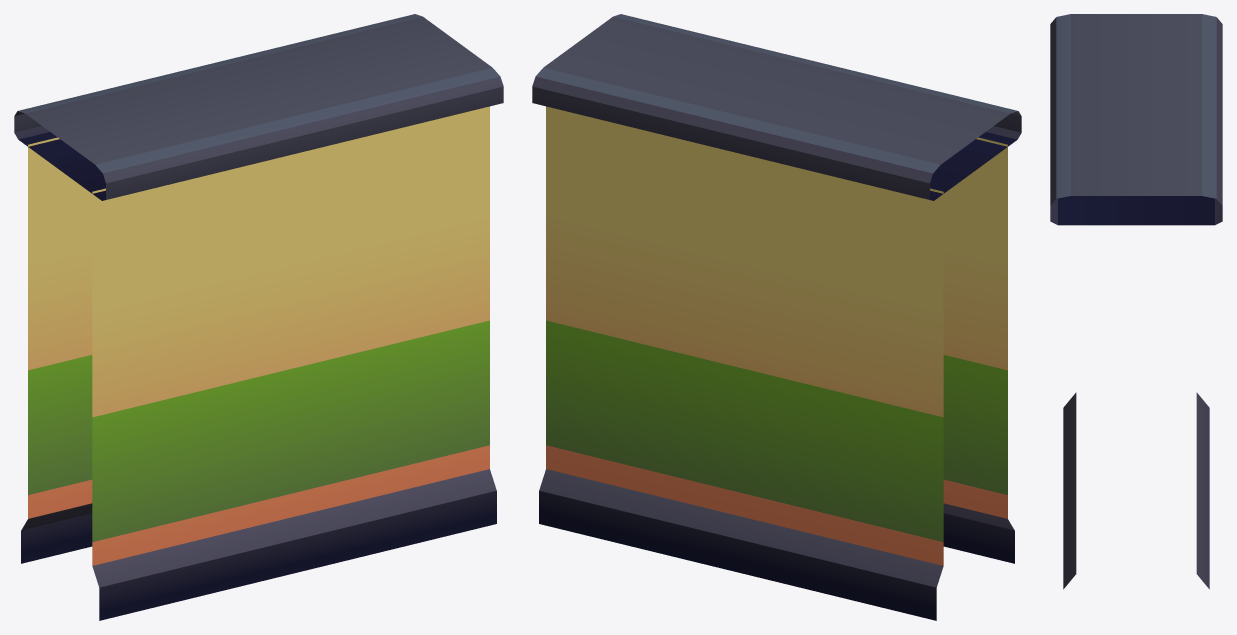
The model's file is wall_middle.fbx.
3 views of the same model, side by side, from view 1: azimuth 30°, elevation 25°; view 2: azimuth 150°, elevation 25°; view 3: azimuth 270°, elevation 25° (orthographic). The views are drawn at different scales.
Parts seen in each view (by area): view 1: wall_middle; view 2: wall_middle; view 3: wall_middle.
Boxes of the visible parts, box(x1,y1,x2,y2) form: wall_middle: box(14, 14, 503, 620); wall_middle: box(532, 14, 1021, 620); wall_middle: box(1050, 14, 1222, 589).
Bounding box in the file's own units: 184 × 200 × 73.48.
